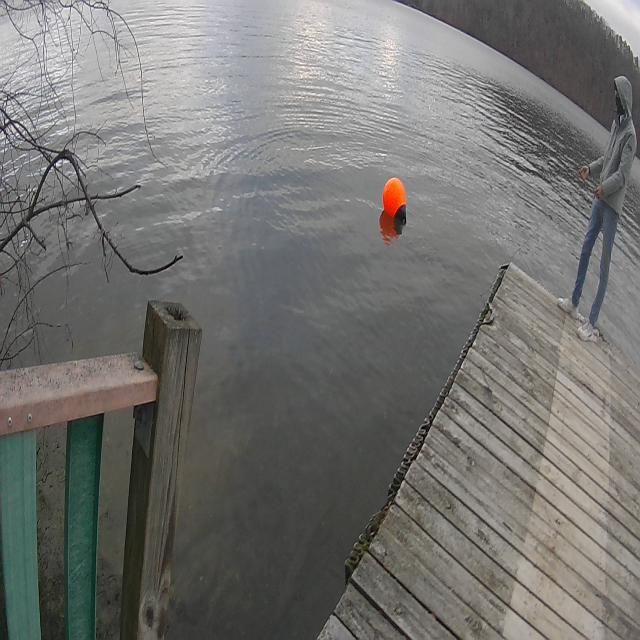Buoy: (378, 176, 414, 227)
